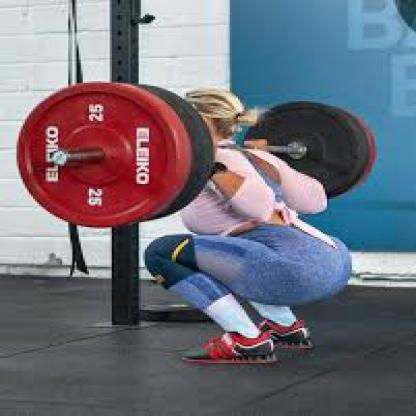barbell: (13, 78, 378, 231)
